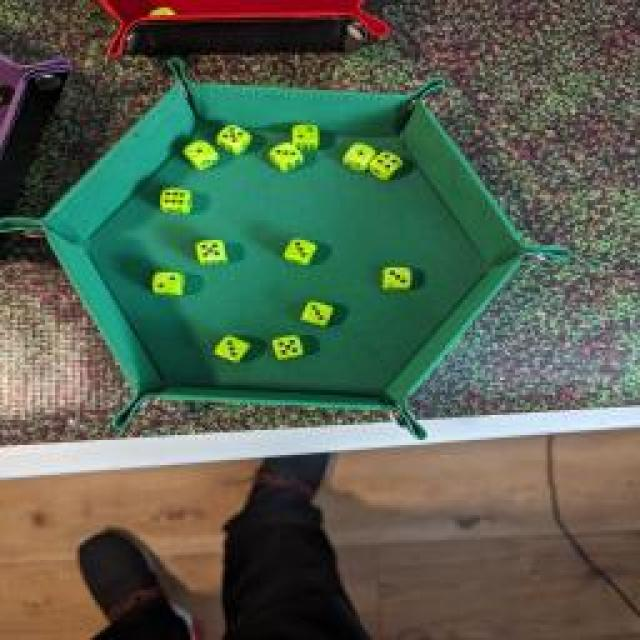dice_1: (176, 139, 219, 171), (340, 138, 375, 174), (148, 1, 178, 26)
dice_2: (284, 119, 326, 151), (150, 268, 188, 298)
dice_3: (276, 235, 319, 265), (372, 266, 418, 294), (210, 333, 250, 365), (295, 298, 335, 328), (268, 139, 302, 171)
dice_4: (368, 148, 402, 182)
dice_5: (188, 236, 228, 266), (270, 331, 308, 361), (218, 122, 250, 152)
dice_6: (156, 185, 196, 215)
